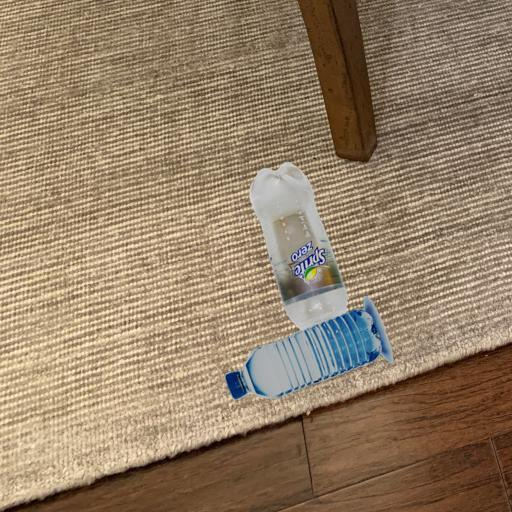bottle: (245, 162, 362, 328), (222, 306, 393, 402)
